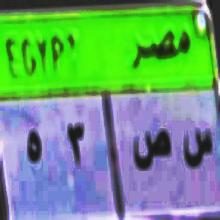3: (66, 119, 87, 174)
5: (22, 128, 45, 172)
saad: (131, 118, 172, 184)
seen: (180, 128, 215, 176)
